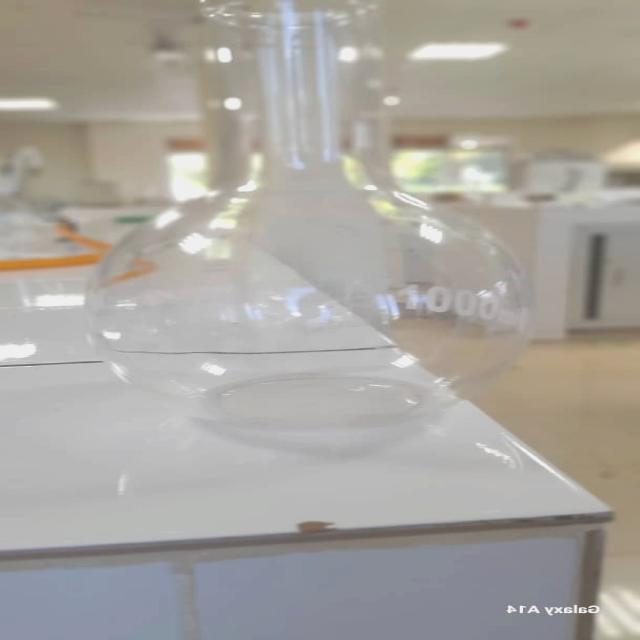Round Bottom Flask: (75, 4, 542, 439)
